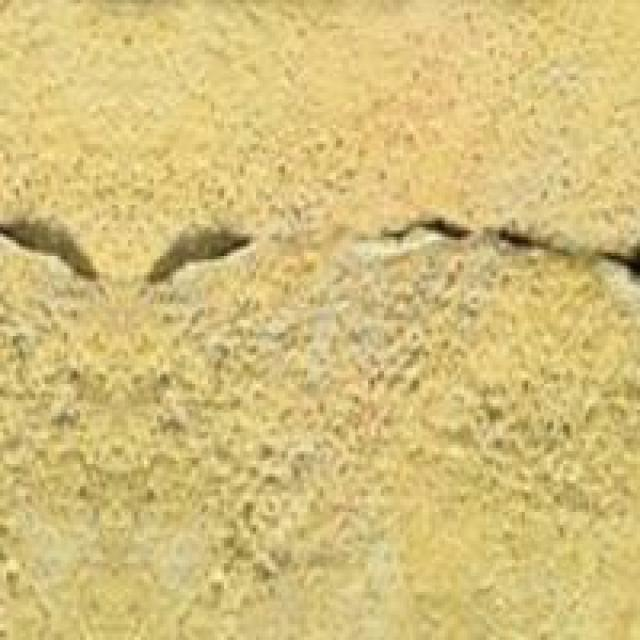crack: (380, 184, 640, 294), (0, 204, 264, 296)
